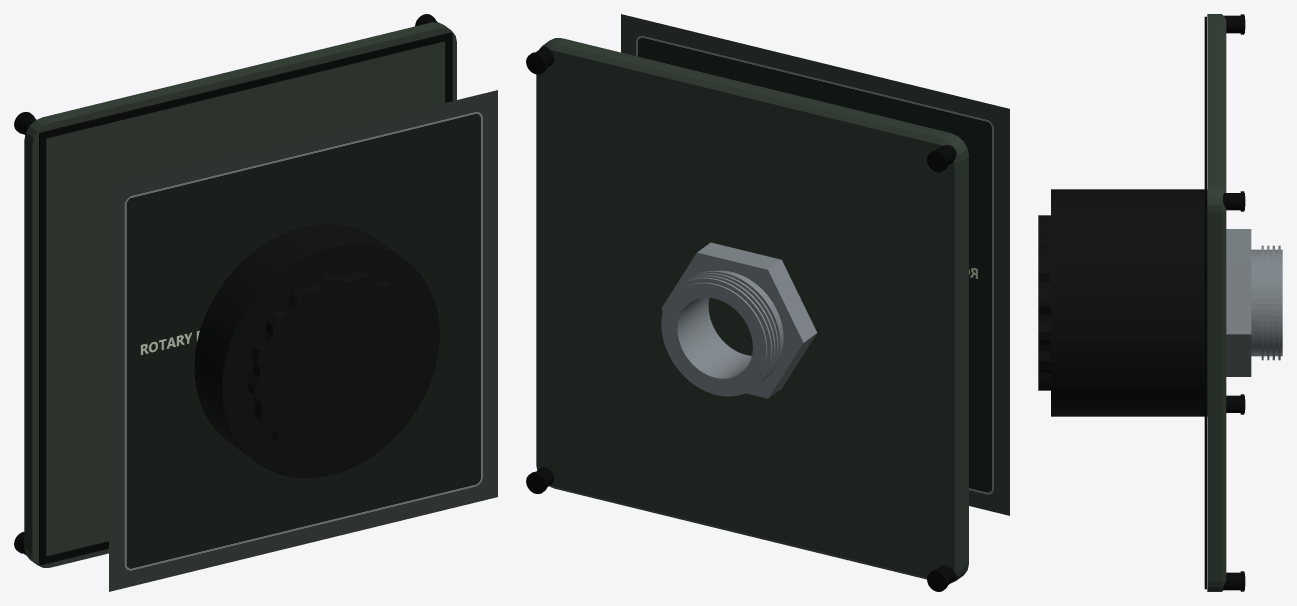
The model's file is MFDStudio.obj.
3 views of the same model, side by side, from view 1: azimuth 30°, elevation 25°; view 2: azimuth 150°, elevation 25°; view 3: azimuth 270°, elevation 25° (orthographic). The views are drawn at different scales.
Visible parts, largest first — view 1: MFDStudioScreen, MFDStudioBase, MFDStudioMount, MFDStudioActuator, MFDStudioScrews; view 2: MFDStudioBase, MFDStudioScreen, MFDStudioMount, MFDStudioScrews; view 3: MFDStudioMount, MFDStudioBase, MFDStudioActuator, MFDStudioScrews.
Part boxes in pixels (x1,y1,x2,y2): MFDStudioScreen: [109, 90, 497, 591]; MFDStudioBase: [24, 22, 456, 567]; MFDStudioMount: [194, 224, 439, 478]; MFDStudioActuator: [247, 271, 421, 455]; MFDStudioScrews: [14, 14, 437, 554]; MFDStudioBase: [536, 38, 968, 582]; MFDStudioScreen: [621, 14, 1009, 515]; MFDStudioMount: [661, 242, 817, 398]; MFDStudioScrews: [526, 46, 956, 591]; MFDStudioMount: [1051, 189, 1282, 416]; MFDStudioBase: [1204, 14, 1226, 591]; MFDStudioActuator: [1038, 215, 1050, 390]; MFDStudioScrews: [1222, 14, 1245, 591].
Size of the model in its own units: 0.071 by 0.071 by 0.039.
8 materials, 1 textured.
